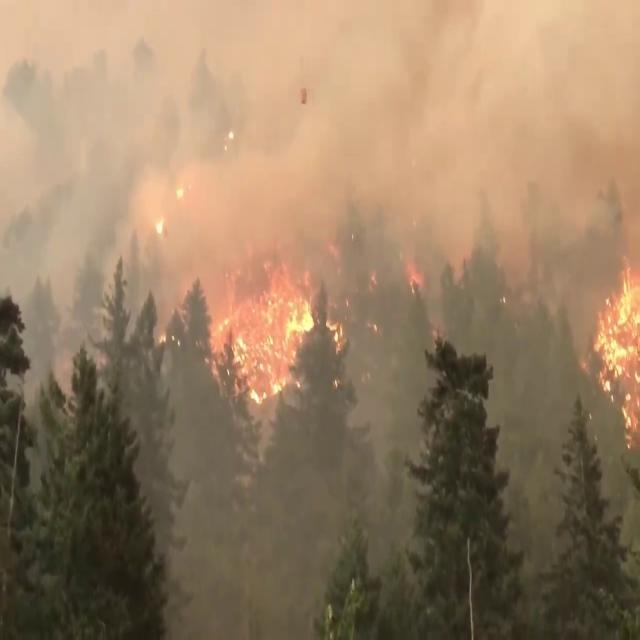Fire: (202, 246, 351, 404), (593, 255, 640, 452), (155, 217, 164, 235), (176, 187, 184, 200)
Smoke: (0, 1, 640, 638)
